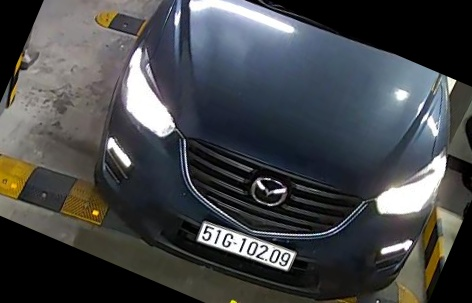plate: (185, 217, 301, 274)
